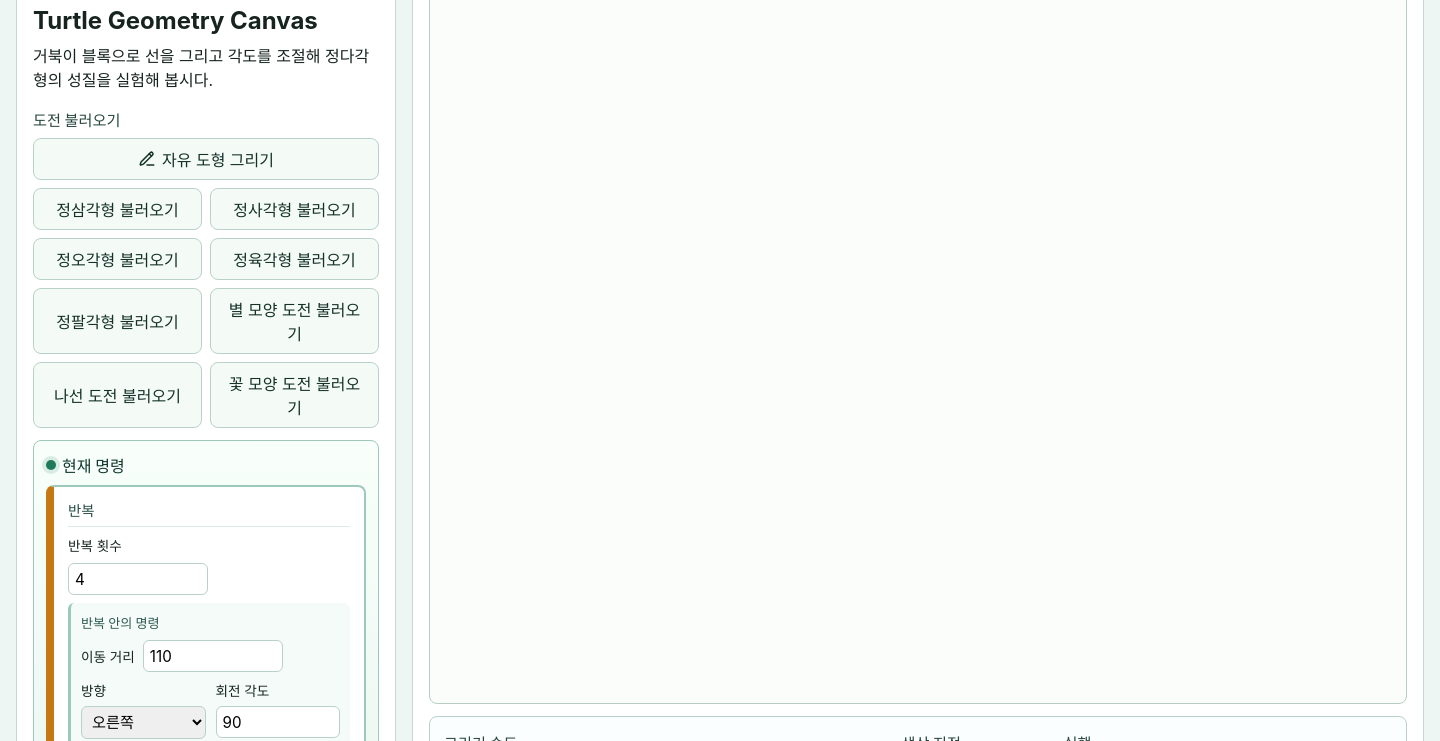
Test: App › loads the square challenge and runs geometry facts after execute
Click the button "정사각형 불러오기": (294, 209) [210,188,379,230]
(page scrolled)
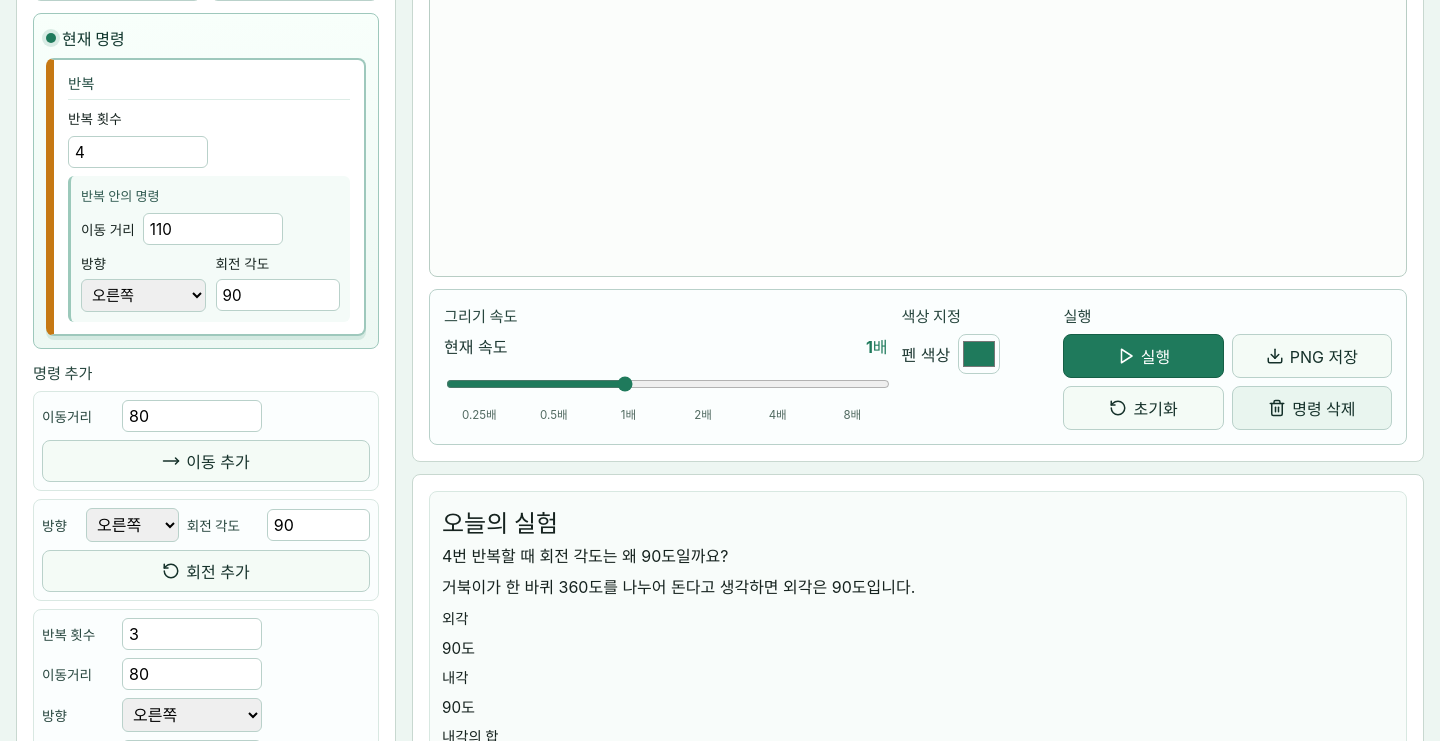
Click the button "실행": (1144, 356) [1063,334,1224,378]
(page scrolled)
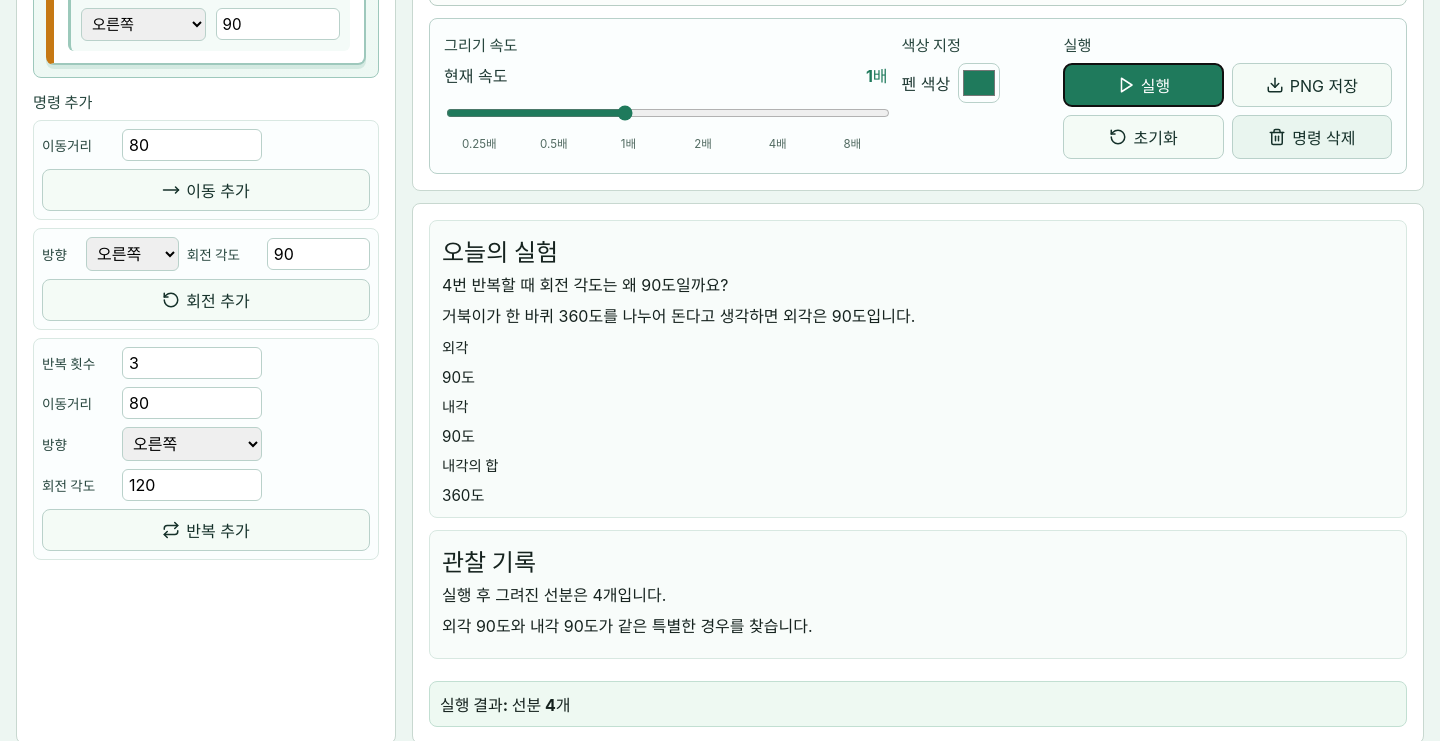
Check: the element named "정다각형 수학 공식" reads "외각 90도 내각 90도 내각의 합 360도", box [442,339,498,505]
Check: the message reads "실행 결과: 선분 4개", box [429,681,1407,727]
